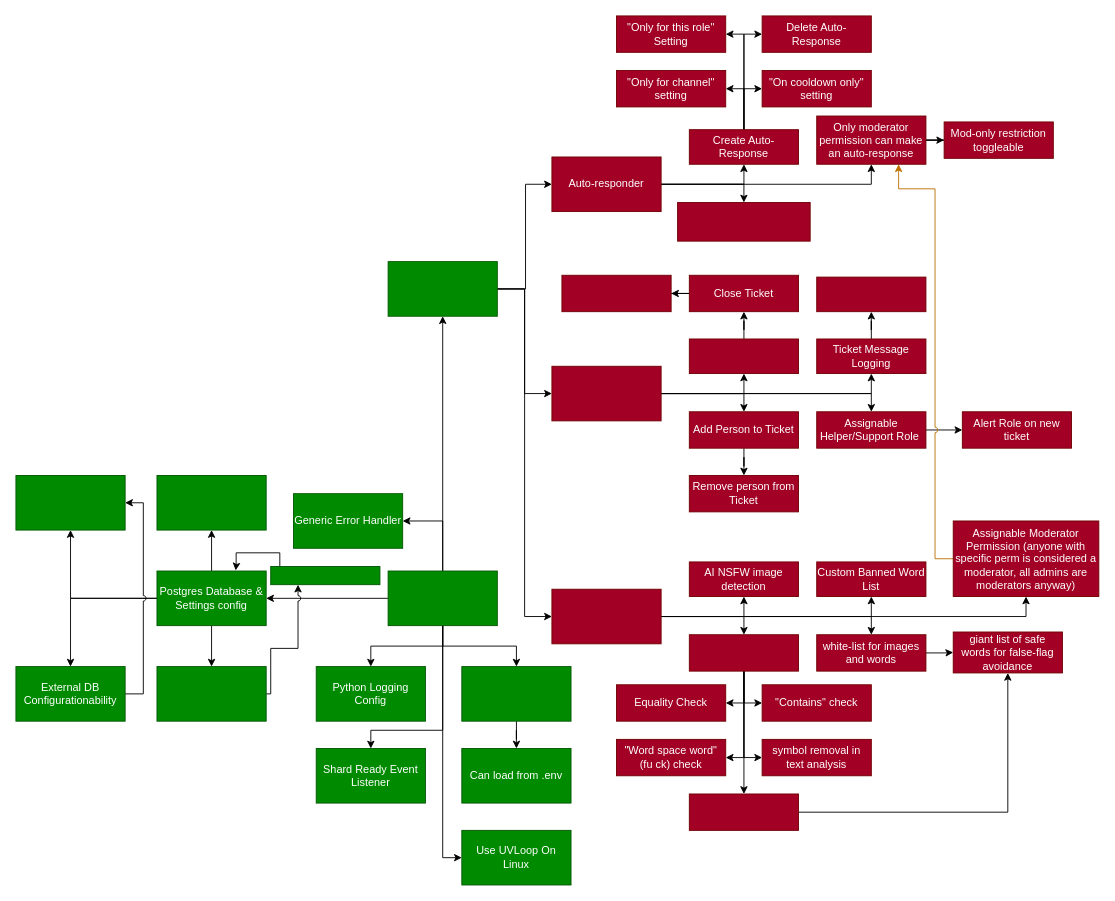
The diagram is 1115 pixels wide and 901 high, and some of its shapes have lost their labels. Here are the shapes that lost their labels. From the top down, the centre of each, then its label:
(x=743, y=221): Toggleable Logs of all auto-response stuff
(x=442, y=288): Cog / Command Loading
(x=616, y=293): Re-open ticket
(x=871, y=294): Downloadable Ticket Transcriptions
(x=743, y=356): Create Ticket
(x=606, y=393): Ticket Management
(x=70, y=502): Docker Integration for Postgre Fallback
(x=211, y=502): Settings Module
(x=325, y=575): DB Details Encrypted
(x=442, y=598): Bot Launcher
(x=606, y=616): Auto-moderation
(x=743, y=652): Banned Word Detection
(x=211, y=693): Encryption Library
(x=516, y=693): Setup Configuration
(x=743, y=811): Auto-Punish
